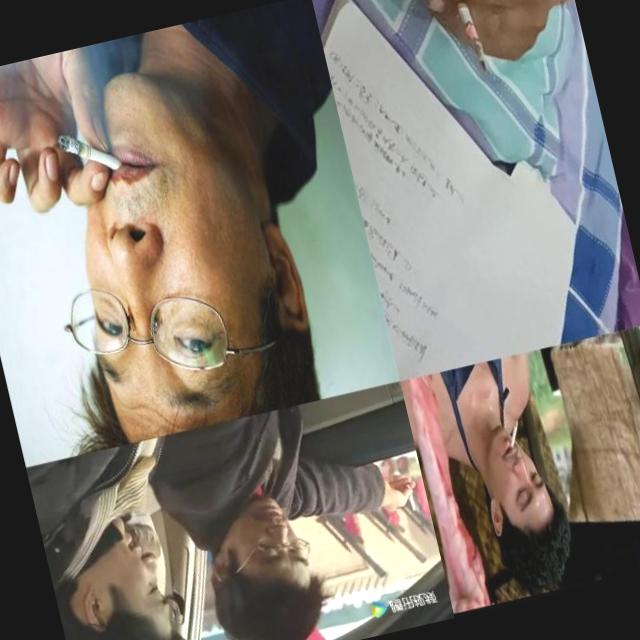smoke: (54, 118, 134, 187), (440, 0, 489, 76), (503, 417, 524, 450), (404, 482, 419, 513)
